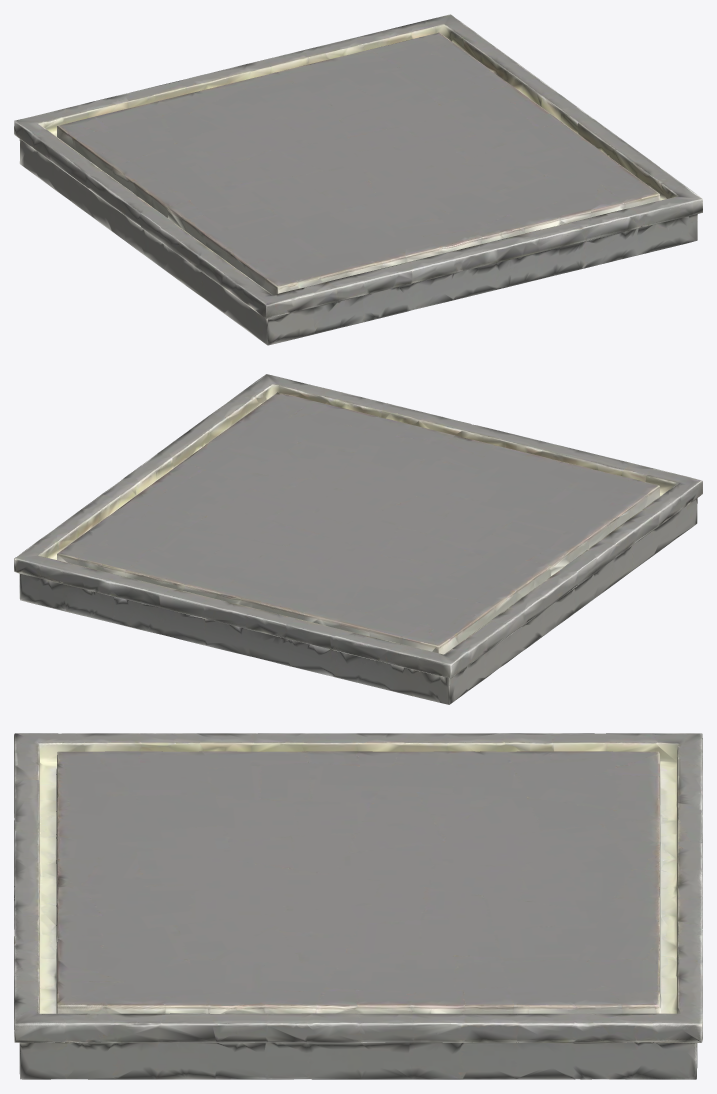
Rendered from Ceiling Cove Lighting.glb.
3 views of the same model, one above another, from view 1: azimuth 30°, elevation 25°; view 2: azimuth 150°, elevation 25°; view 3: azimuth 270°, elevation 25° (orthographic). The views are drawn at different scales.
Parts seen in each view (by area): view 1: Mesh_0; view 2: Mesh_0; view 3: Mesh_0.
Part boxes in pixels (x1,y1,x2,y2): Mesh_0: [14, 14, 702, 345]; Mesh_0: [14, 374, 702, 704]; Mesh_0: [14, 733, 702, 1079].
Size of the model in its own units: 0.5299 by 0.05 by 0.5299.
Materials: 1 (1 with a texture image).
